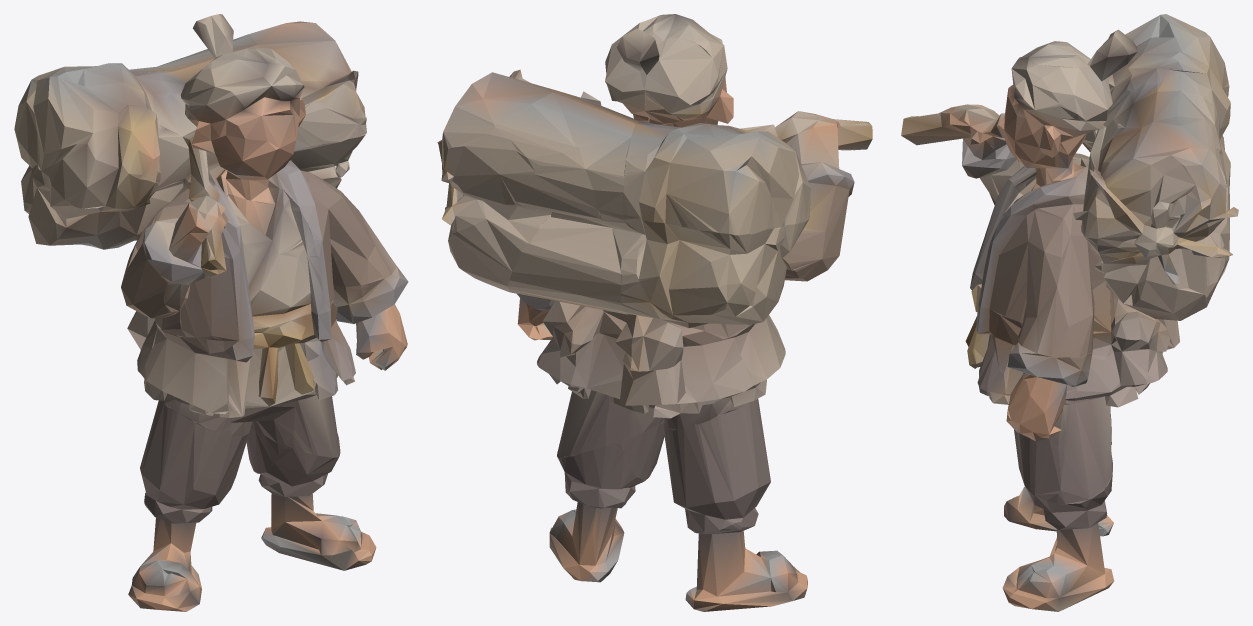
The model's file is villager.glb.
3 views of the same model, side by side, from view 1: azimuth 30°, elevation 25°; view 2: azimuth 150°, elevation 25°; view 3: azimuth 270°, elevation 25° (orthographic). The views are drawn at different scales.
Visible parts, largest first — view 1: villager; view 2: villager; view 3: villager.
Boxes of the visible parts, x1,y1,x2,y2 form: villager: (14,14,408,611); villager: (437,14,872,611); villager: (901,14,1238,611).
Size of the model in its own units: 0.6252 by 0.9995 by 0.583.
